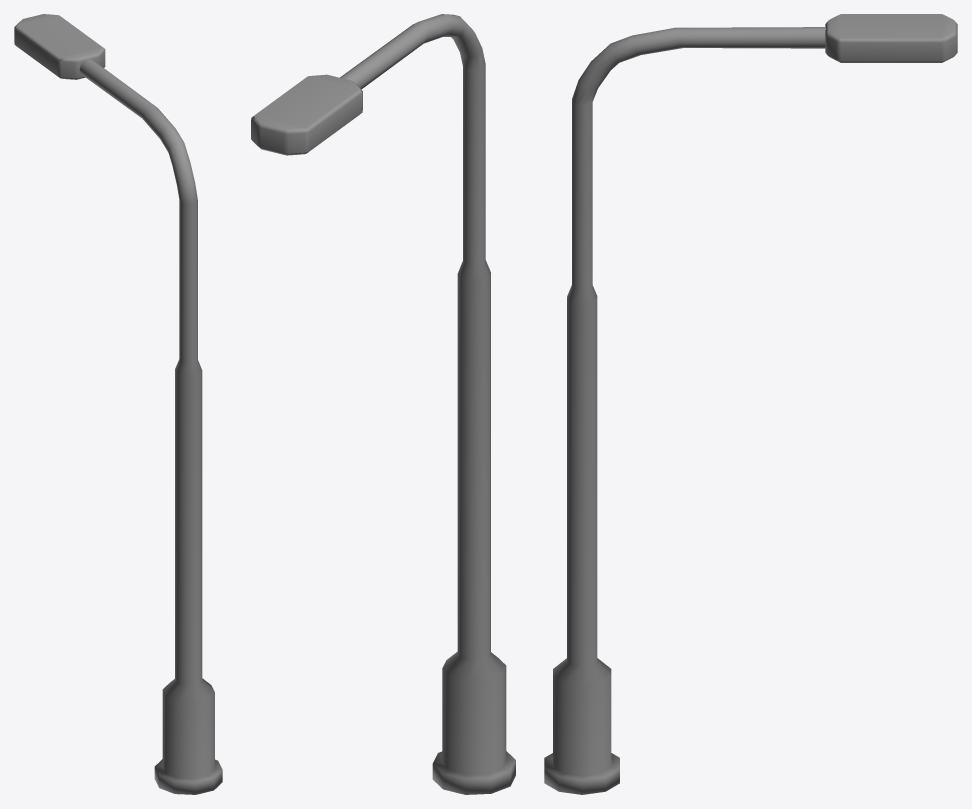
Rendered from lantaarnpaal.fbx.
3 renders of one model, left to right at view 1: azimuth 30°, elevation 25°; view 2: azimuth 150°, elevation 25°; view 3: azimuth 270°, elevation 25°, orthographic. The views are drawn at different scales.
Parts seen in each view (by area): view 1: paal, head; view 2: paal, head; view 3: paal, head.
Boxes of the visible parts, x1,y1,x2,y2 form: paal: [79, 59, 222, 794]; head: [14, 14, 105, 79]; paal: [340, 14, 515, 794]; head: [251, 74, 362, 155]; paal: [544, 27, 825, 794]; head: [825, 14, 957, 62].
Bounding box in the file's own units: 0.4063 × 4.25 × 2.11.
